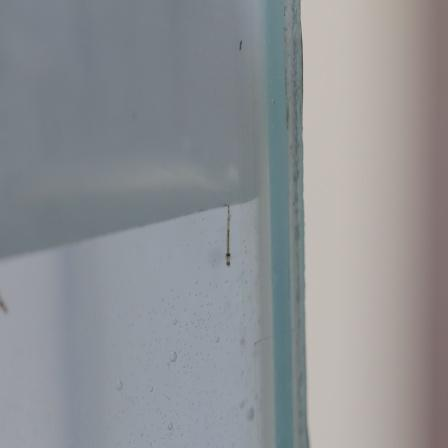Jentik-Nyamuk: (219, 201, 235, 270)
